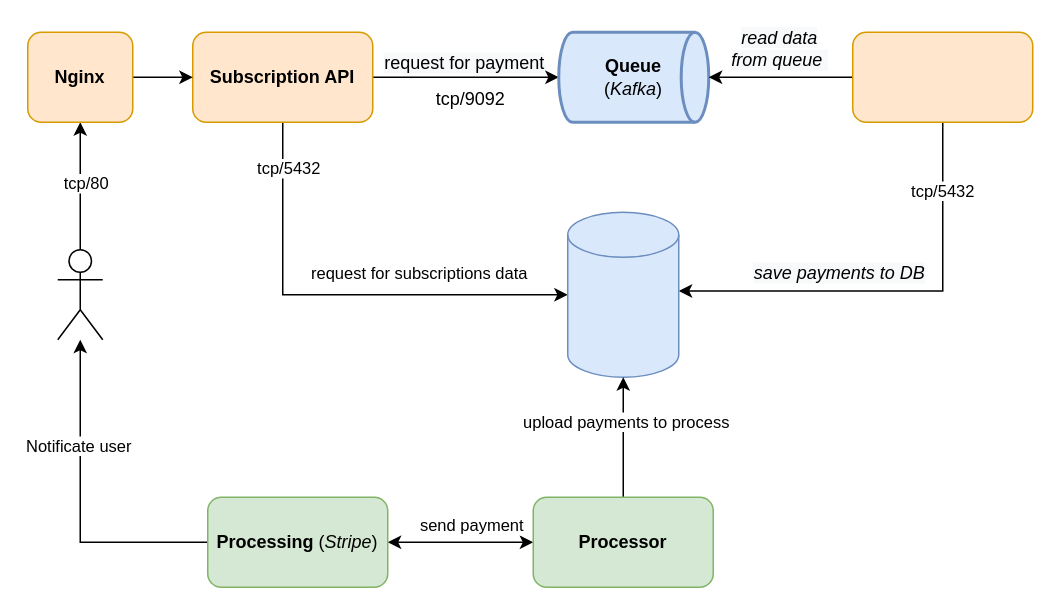
Image size: 1059x614. Some labels were removed from this diagram. Here are the shapes that lost their labels. From the top down, the centre of each, then its label:
At pixel 942 76: "Saver app".
At pixel 79 294: "Actor".
At pixel 622 294: "DB ( PostgreSQL )".
